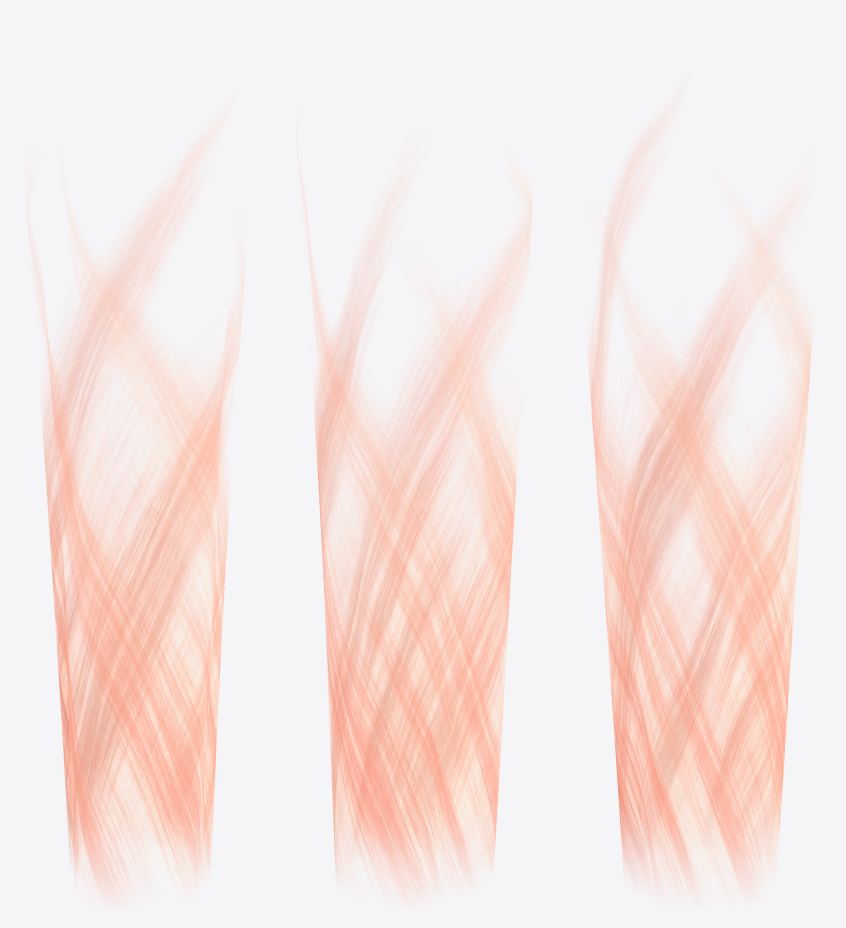
File: devil_core_2.glb
3 renders of one model, left to right at view 1: azimuth 30°, elevation 25°; view 2: azimuth 150°, elevation 25°; view 3: azimuth 270°, elevation 25°, orthographic.
Visible parts, largest first — view 1: devil_core_2; view 2: devil_core_2; view 3: devil_core_2.
Part boxes in pixels (bbox=[...]): devil_core_2: bbox=[27, 129, 244, 897]; devil_core_2: bbox=[299, 171, 531, 896]; devil_core_2: bbox=[588, 120, 812, 894].
Size of the model in its own units: 5.57 by 21.2 by 6.15.
Materials: 1 (1 with a texture image).
